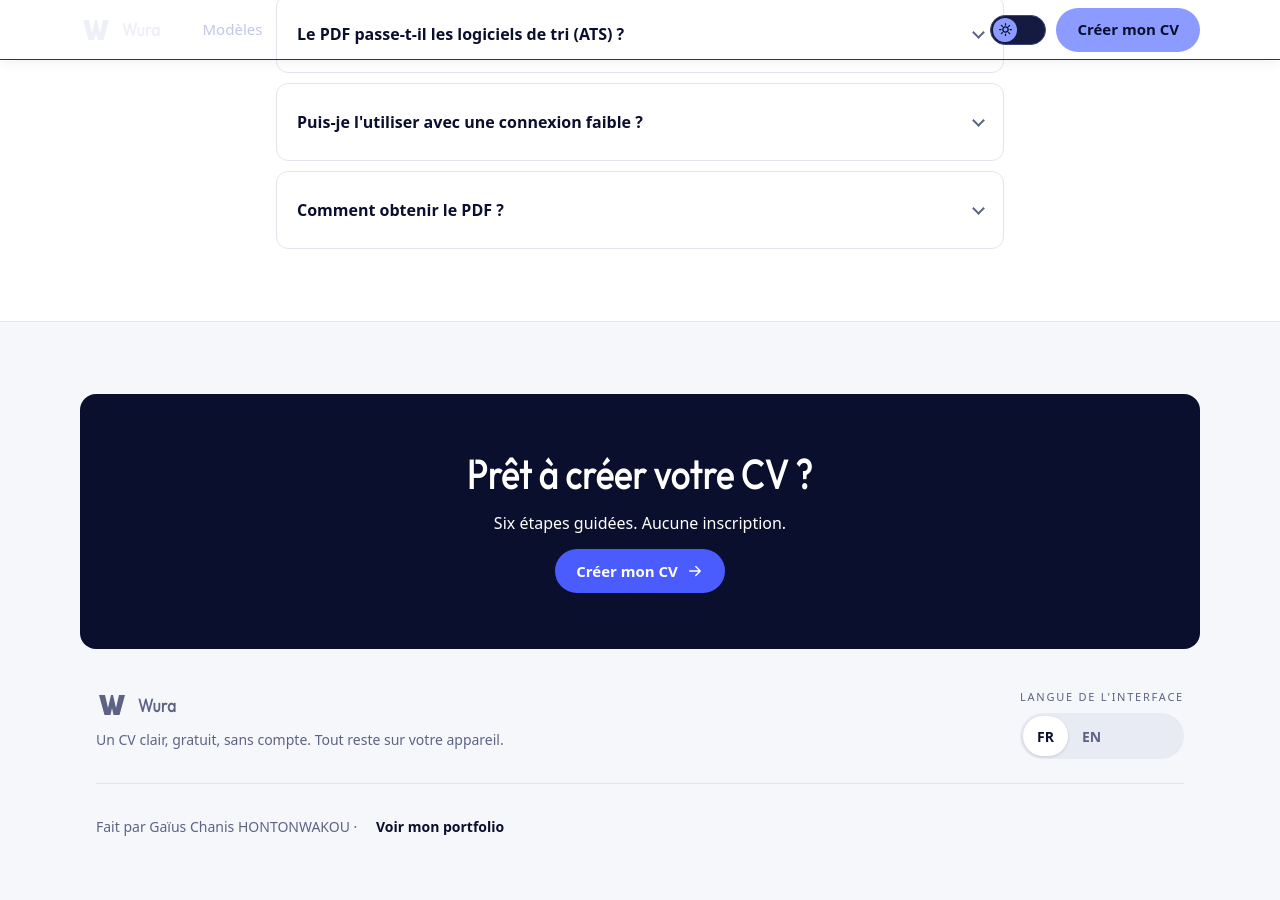
Test case: routing › switches the interface language
(page scrolled)
Click the button "EN": (1092, 736) [1068,716,1115,756]
(page scrolled)
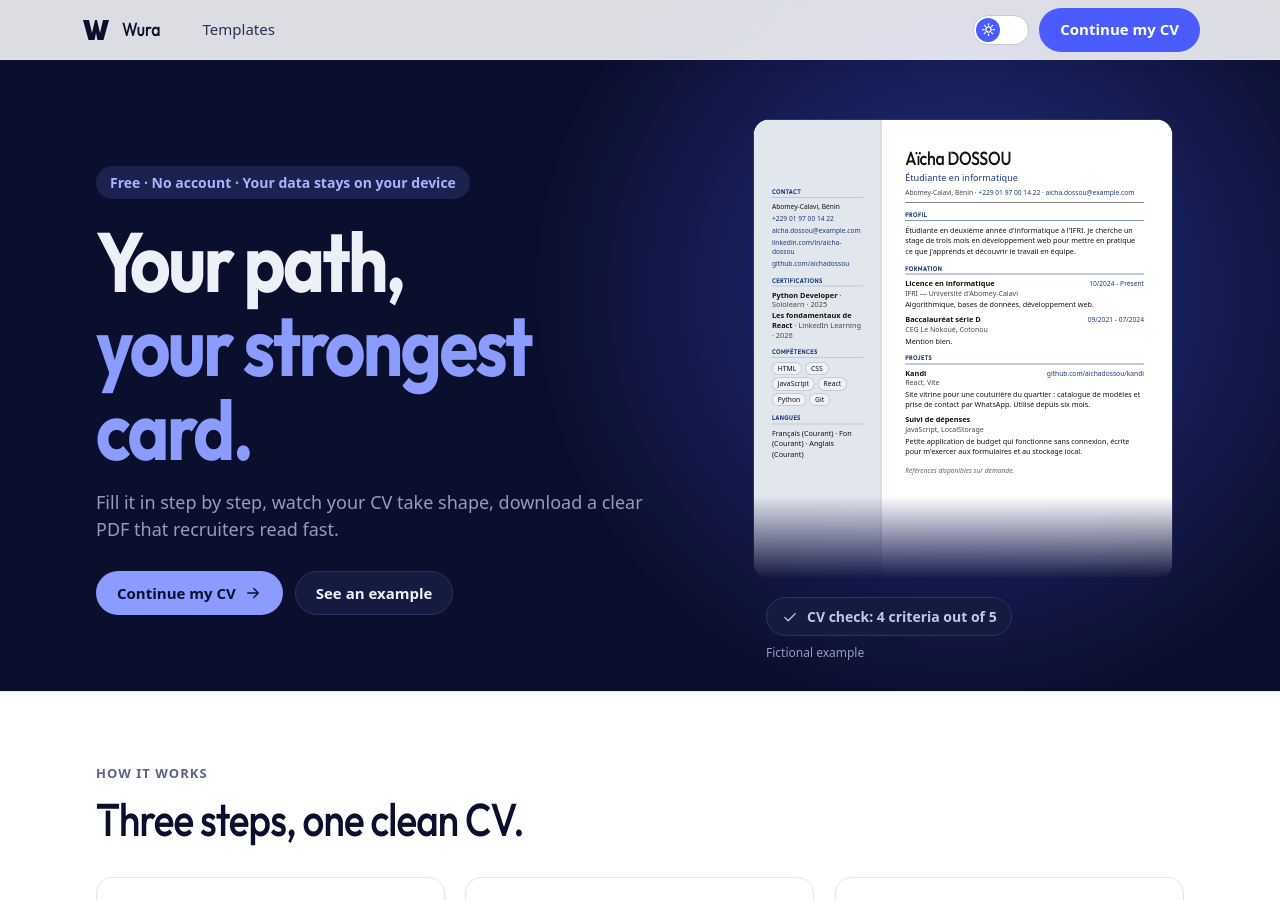
Check: the heading "Your path,your strongest card." is shown, box [96,208,531,482]
